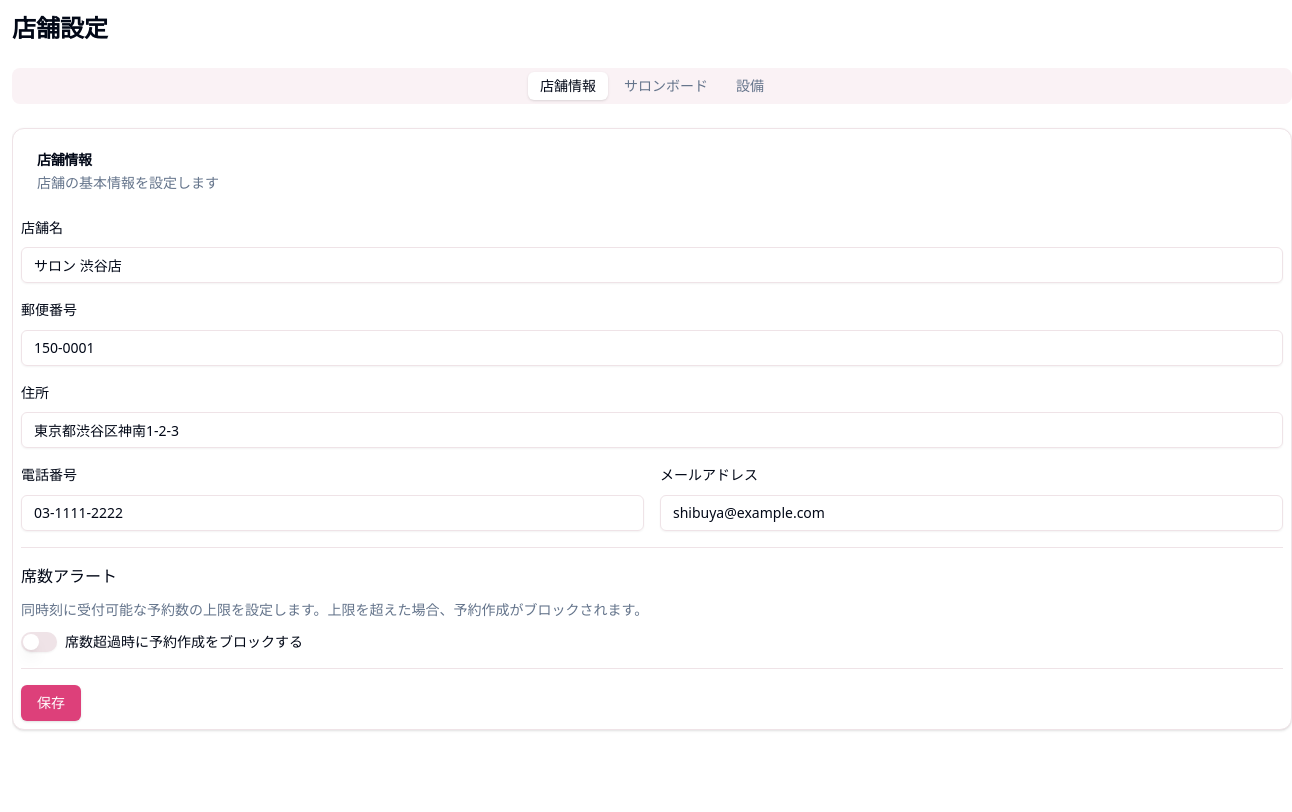
店舗設定 › 設備 › loads the list when the tab is first opened and shows the empty state
This screenshot has width=1292, height=812.
Step 1. Click the tab "設備" → (750, 86), box [724,72,776,100]
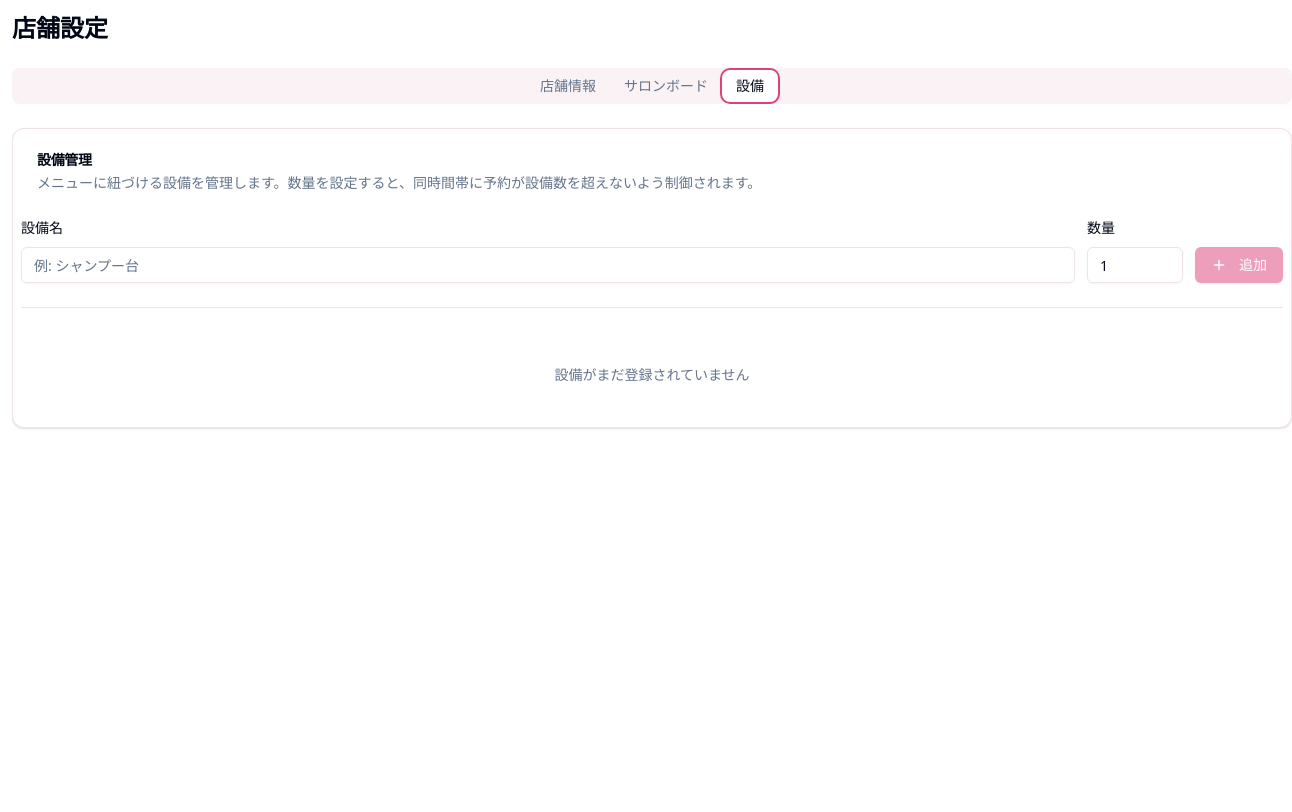
Check: the text "設備管理" is shown, box [37,150,92,169]
Check: the text "設備がまだ登録されていません" is shown, box [554,365,750,384]
Check: the button "追加" is disabled, box [1195,247,1283,283]
